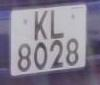0: (32, 40, 51, 73)
2: (49, 37, 66, 72)
8: (16, 40, 34, 76), (64, 35, 81, 71)
K: (33, 8, 50, 45)
L: (49, 7, 67, 42)
